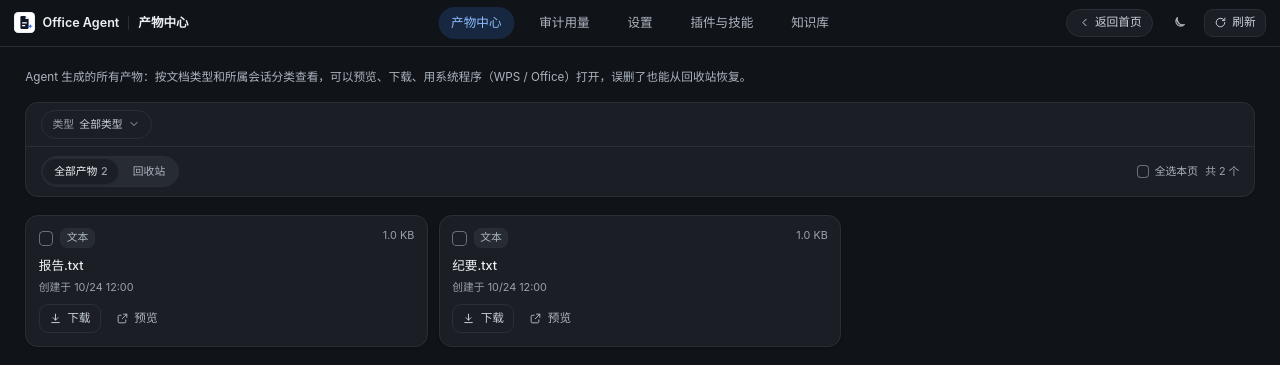
Scenario: ArtifactsPage 多选删除 › 勾选后出现已选计数与批量删除按钮
The width and height of the screenshot is (1280, 365).
Check: the text "报告.txt" is shown, box 39,258 -> 84,273
Check: the button "删除选中" is not shown
Click the checkbox named "选择 报告.txt". click: point(46, 238)
box: 39,231 -> 53,246
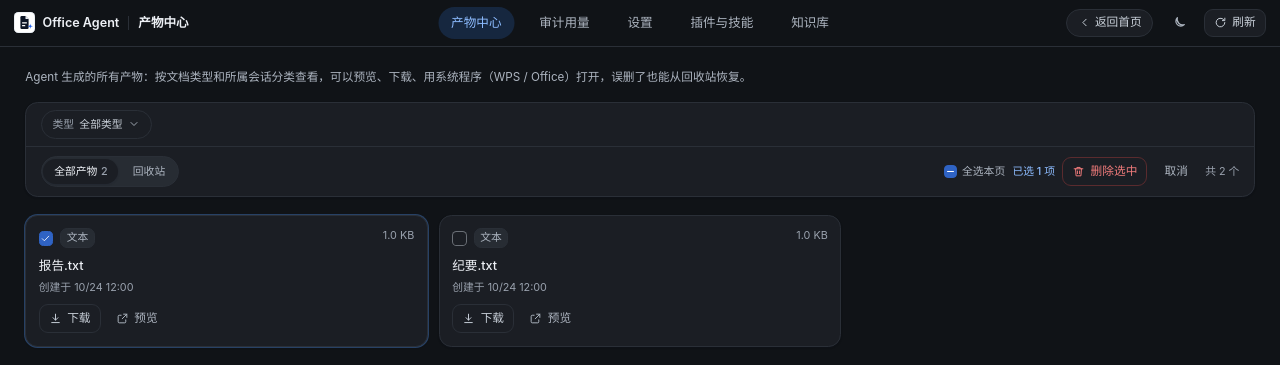
Check: the text "已选 1 项" is shown, box 1012,164 -> 1055,179
Click the checkbox named "选择 纪要.txt". click: point(460, 238)
box: 452,231 -> 467,246
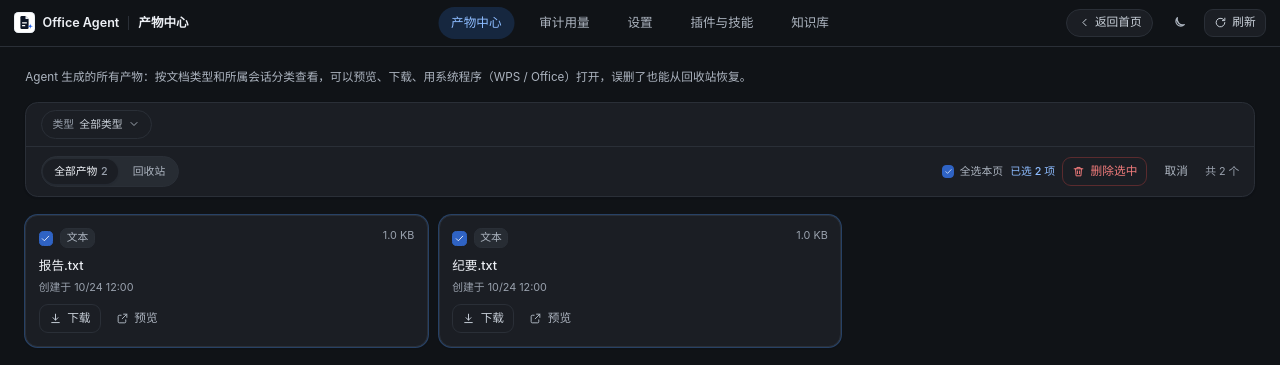
Check: the text "已选 2 项" is shown, box 1010,164 -> 1055,179
